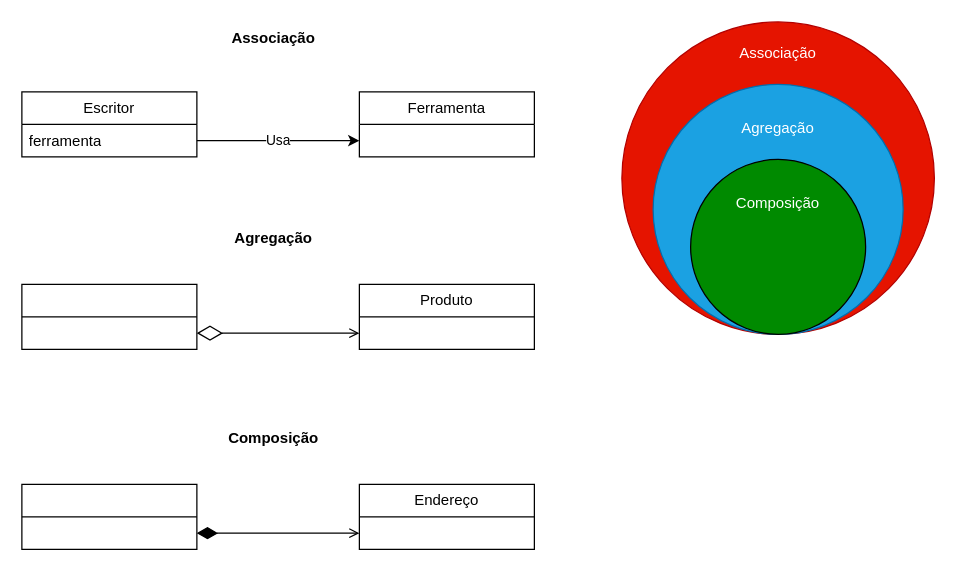
This 956x576 diagram has some shape labels left out. The centre of each missing label's shape, as x and y in pixels:
"CarrinhoDeCompras" goes at (109,316).
"Cliente" goes at (109,516).
